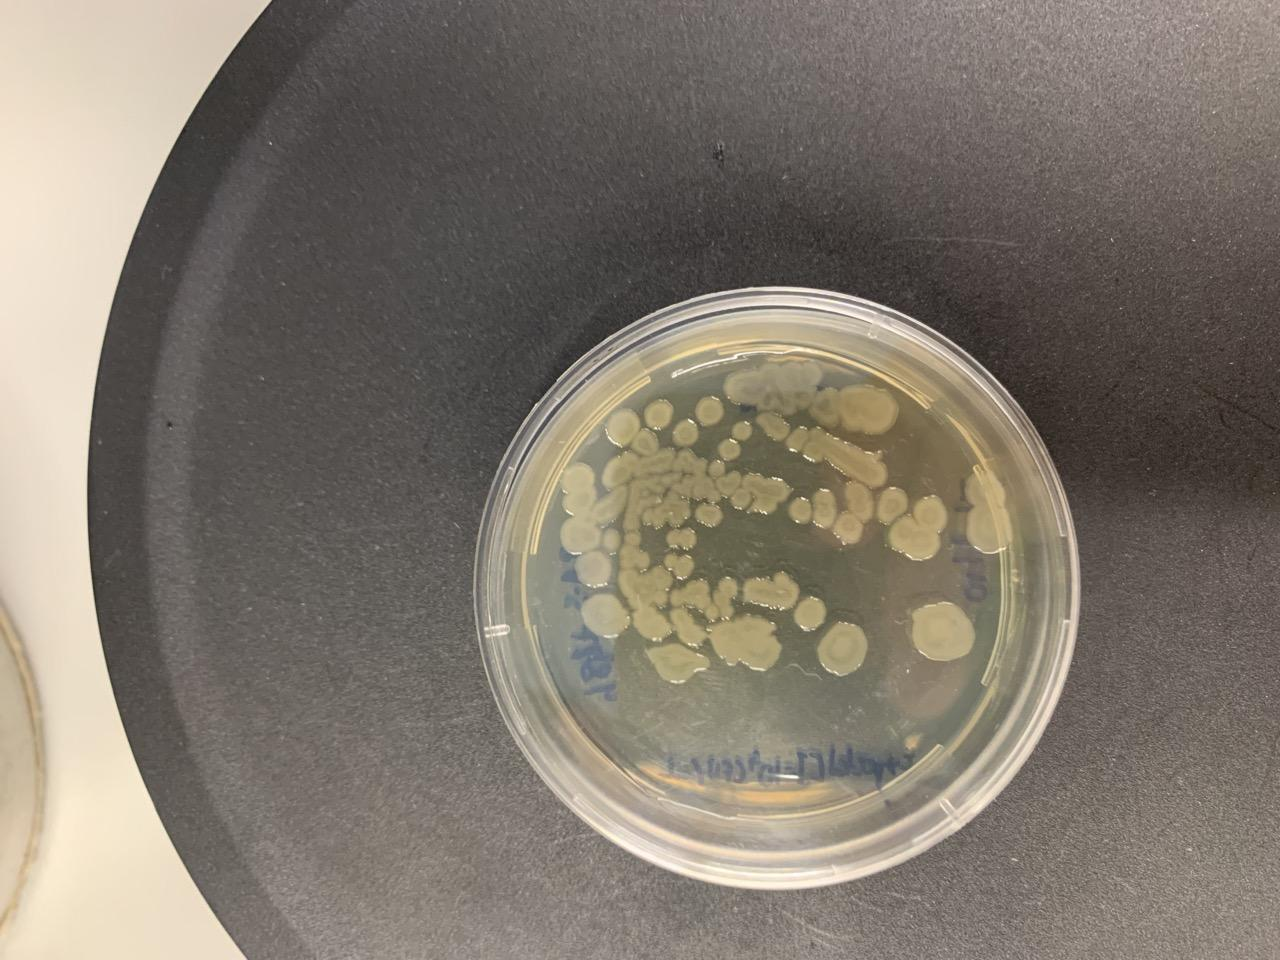colony: (905, 594, 980, 664), (708, 612, 784, 674), (814, 617, 871, 679), (643, 640, 713, 686), (883, 514, 945, 562), (577, 592, 633, 641), (740, 571, 802, 610), (967, 505, 1014, 557), (557, 460, 600, 517), (555, 513, 606, 555), (962, 465, 1008, 504), (571, 550, 614, 590), (914, 492, 949, 534), (604, 404, 642, 443), (873, 483, 909, 523), (793, 592, 829, 631), (640, 396, 676, 431), (756, 409, 793, 443), (693, 393, 727, 427), (668, 416, 701, 450), (831, 512, 864, 547), (693, 501, 729, 528), (664, 525, 699, 552), (632, 427, 661, 457), (787, 496, 813, 525), (715, 436, 744, 462), (599, 526, 622, 556), (730, 417, 754, 442), (707, 460, 727, 479)
